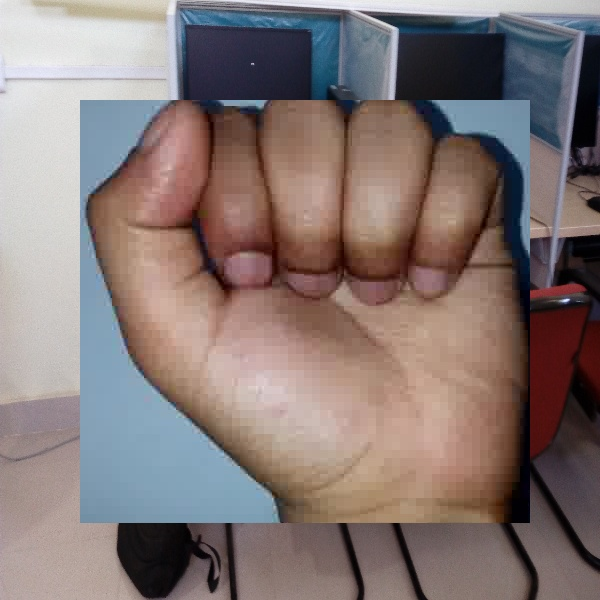A: (80, 100, 530, 523)
